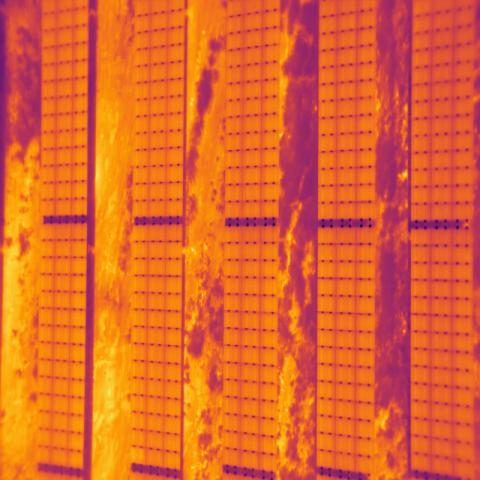fault: (131, 447, 145, 464)
